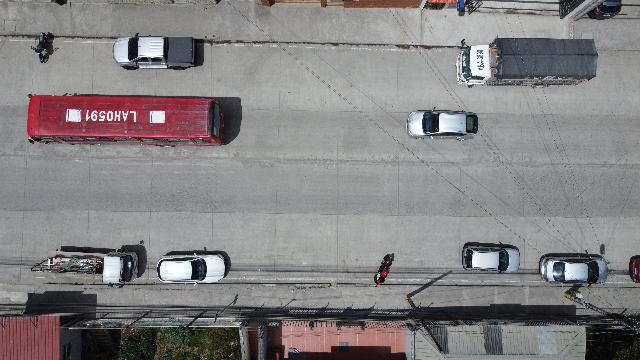Vehiculo: (112, 36, 204, 70), (156, 248, 230, 284), (406, 109, 478, 141), (538, 253, 608, 284), (462, 242, 520, 274)
